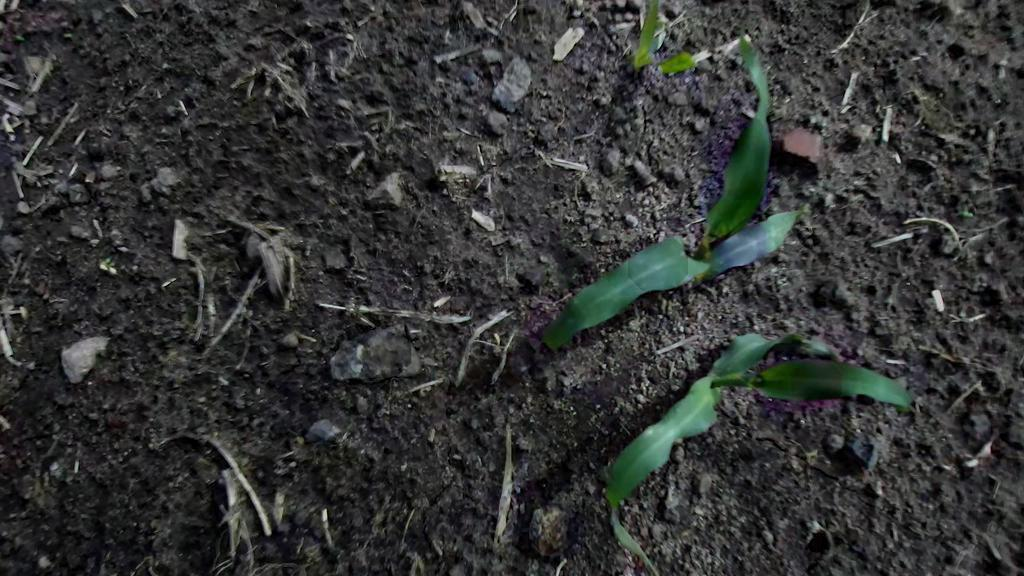BroWeed: (6, 32, 26, 46), (98, 263, 117, 275), (100, 256, 112, 265), (296, 435, 305, 445), (63, 33, 73, 38)
Maize: (535, 30, 865, 425), (559, 271, 923, 576)
